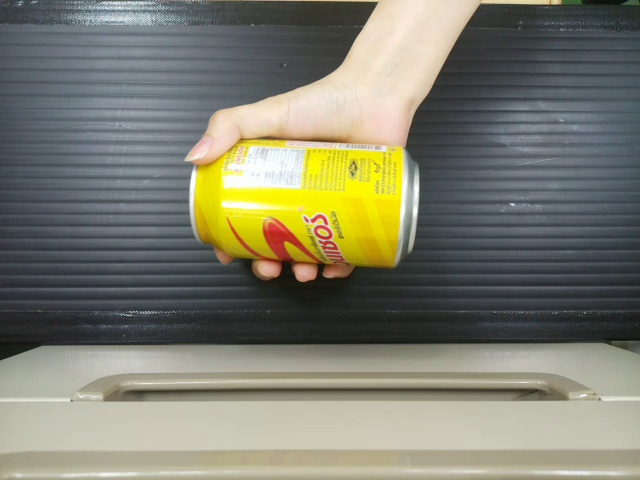can: (187, 132, 419, 263)
